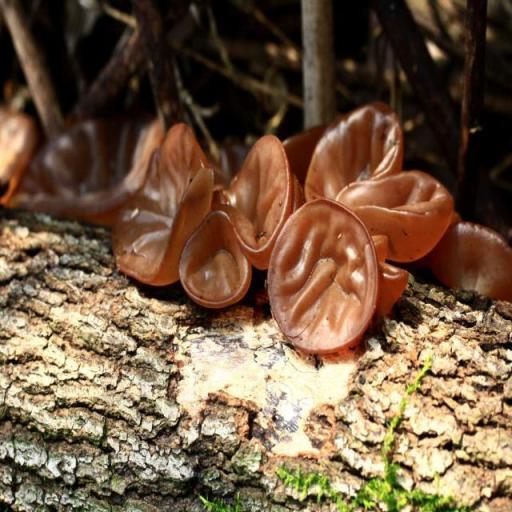Wood Ear Mushroom: (2, 96, 448, 341), (424, 214, 508, 305)
